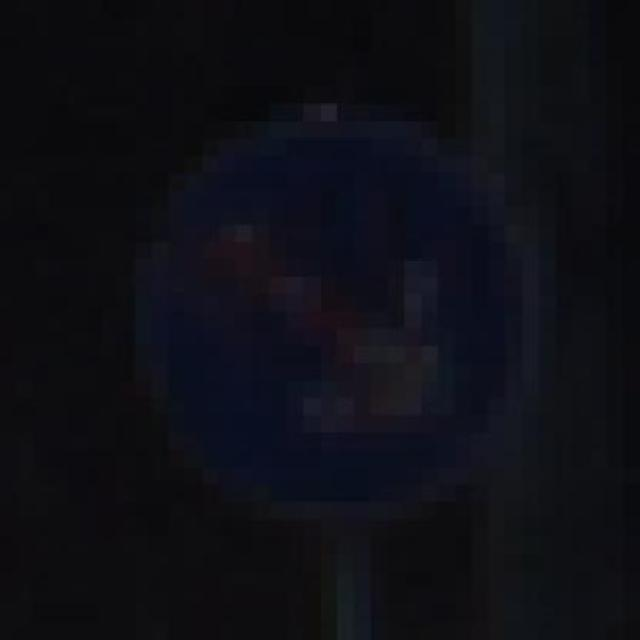Keep-Right: (118, 87, 556, 519)
